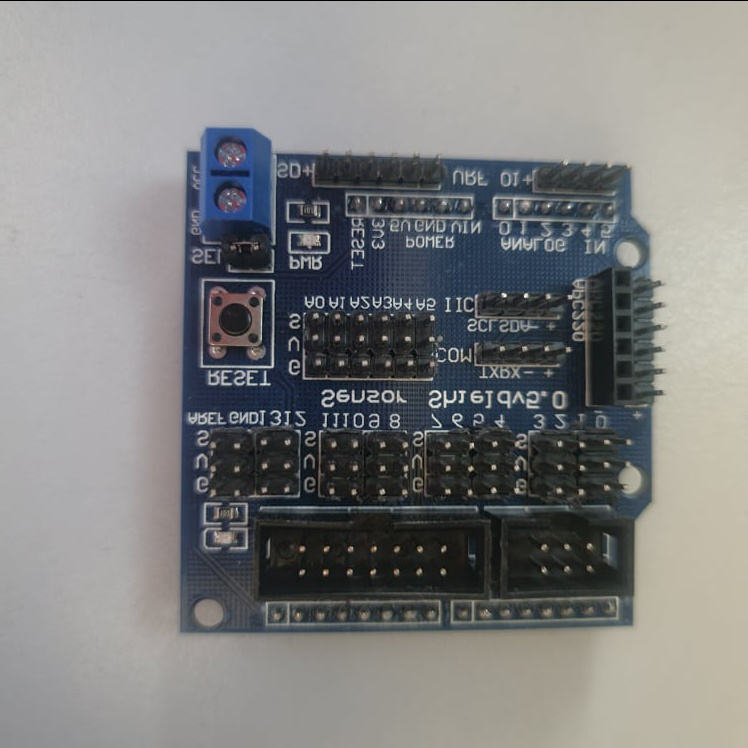5V EXPANSION: (182, 124, 663, 632)
